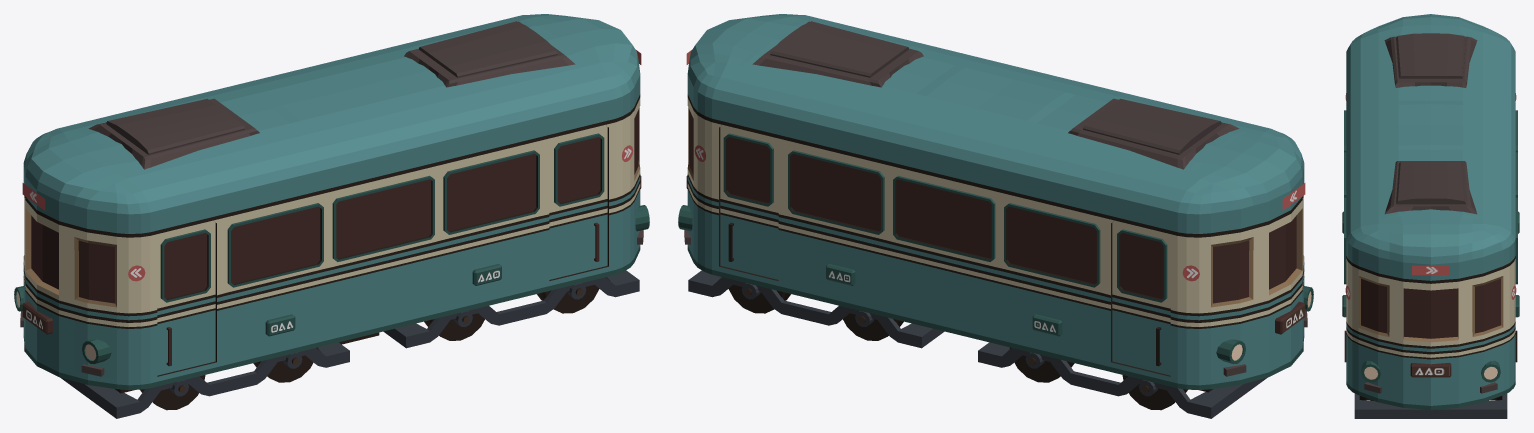
The model's file is 3D_Train_A_express.fbx.
3 views of the same model, side by side, from view 1: azimuth 30°, elevation 25°; view 2: azimuth 150°, elevation 25°; view 3: azimuth 270°, elevation 25° (orthographic). The views are drawn at different scales.
Visible parts, largest first — view 1: 3D_Train_A_express; view 2: 3D_Train_A_express; view 3: 3D_Train_A_express.
Boxes of the visible parts, x1,y1,x2,y2 form: 3D_Train_A_express: (14,14,649,418); 3D_Train_A_express: (678,14,1313,418); 3D_Train_A_express: (1342,14,1519,418).
Bounding box in the file's own units: 1518 × 601 × 473.
